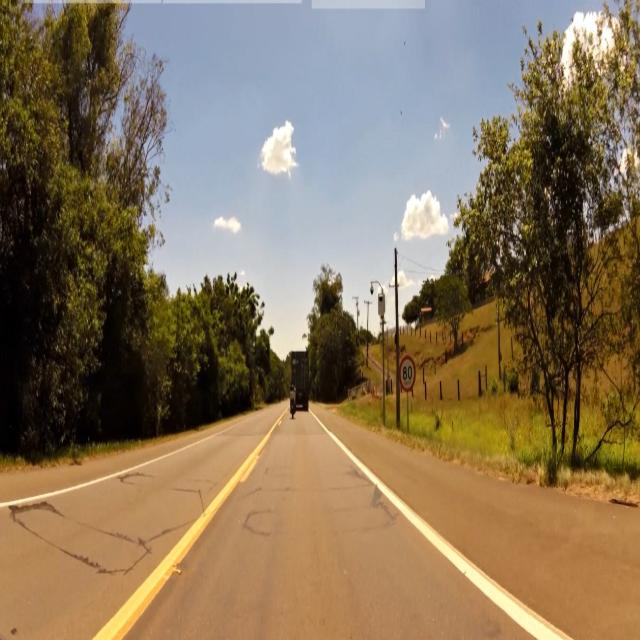R-19: (398, 357, 418, 390)
